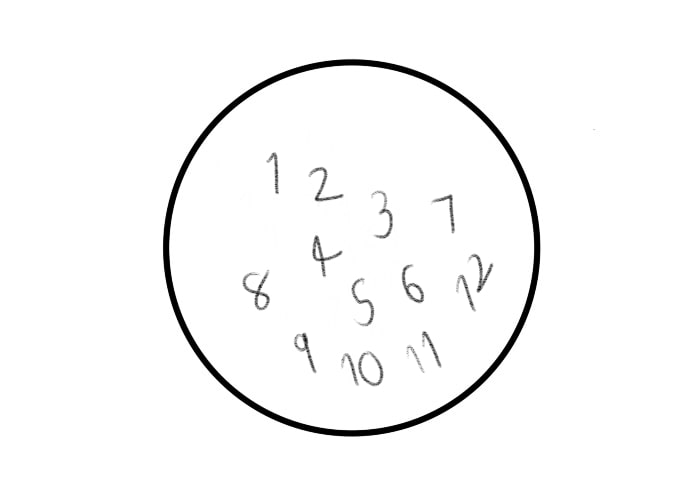eight: (235, 269, 273, 315)
eleven: (401, 327, 445, 378)
five: (348, 275, 374, 329)
four: (311, 230, 342, 278)
nine: (292, 330, 319, 373)
one: (262, 149, 284, 197)
seven: (432, 193, 458, 235)
six: (400, 262, 425, 306)
ten: (342, 345, 386, 387)
three: (369, 187, 396, 244)
twelve: (451, 249, 495, 316)
two: (306, 163, 345, 204)
